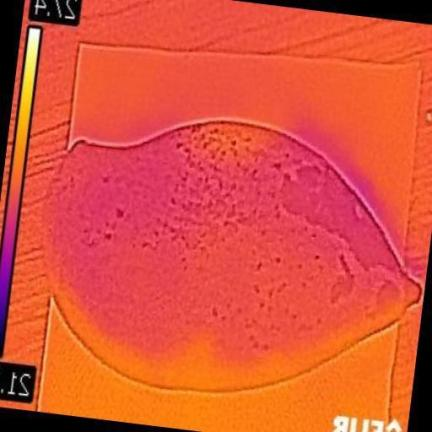mango: (46, 121, 419, 388)
